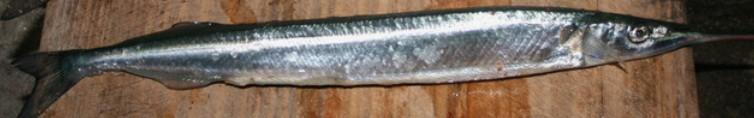fish: (17, 8, 753, 117)
